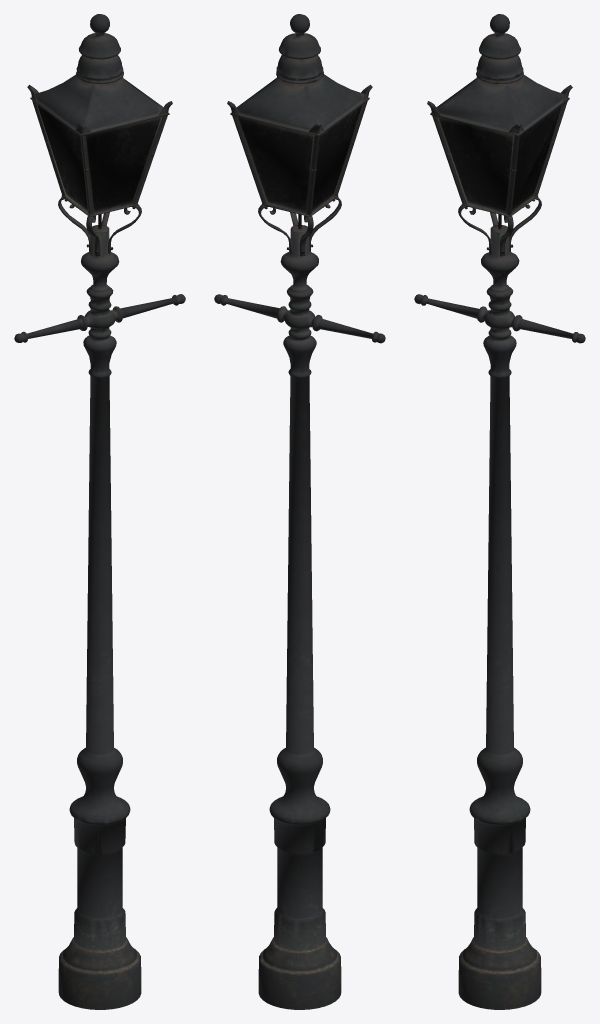
Rendered from streetlight-01.a93eec04.glb.
The picture shows the model from 3 angles, left to right: view 1: azimuth 30°, elevation 25°; view 2: azimuth 150°, elevation 25°; view 3: azimuth 330°, elevation 25°; orthographic projection.
Parts seen in each view (by area): view 1: model; view 2: model; view 3: model.
Boxes of the visible parts, <box> form: model: <box>14,14,185,1009</box>; model: <box>214,14,385,1009</box>; model: <box>414,14,585,1009</box>.
Size of the model in its own units: 0.703 by 3.87 by 0.3862.
Materials: 3 (3 with a texture image).
